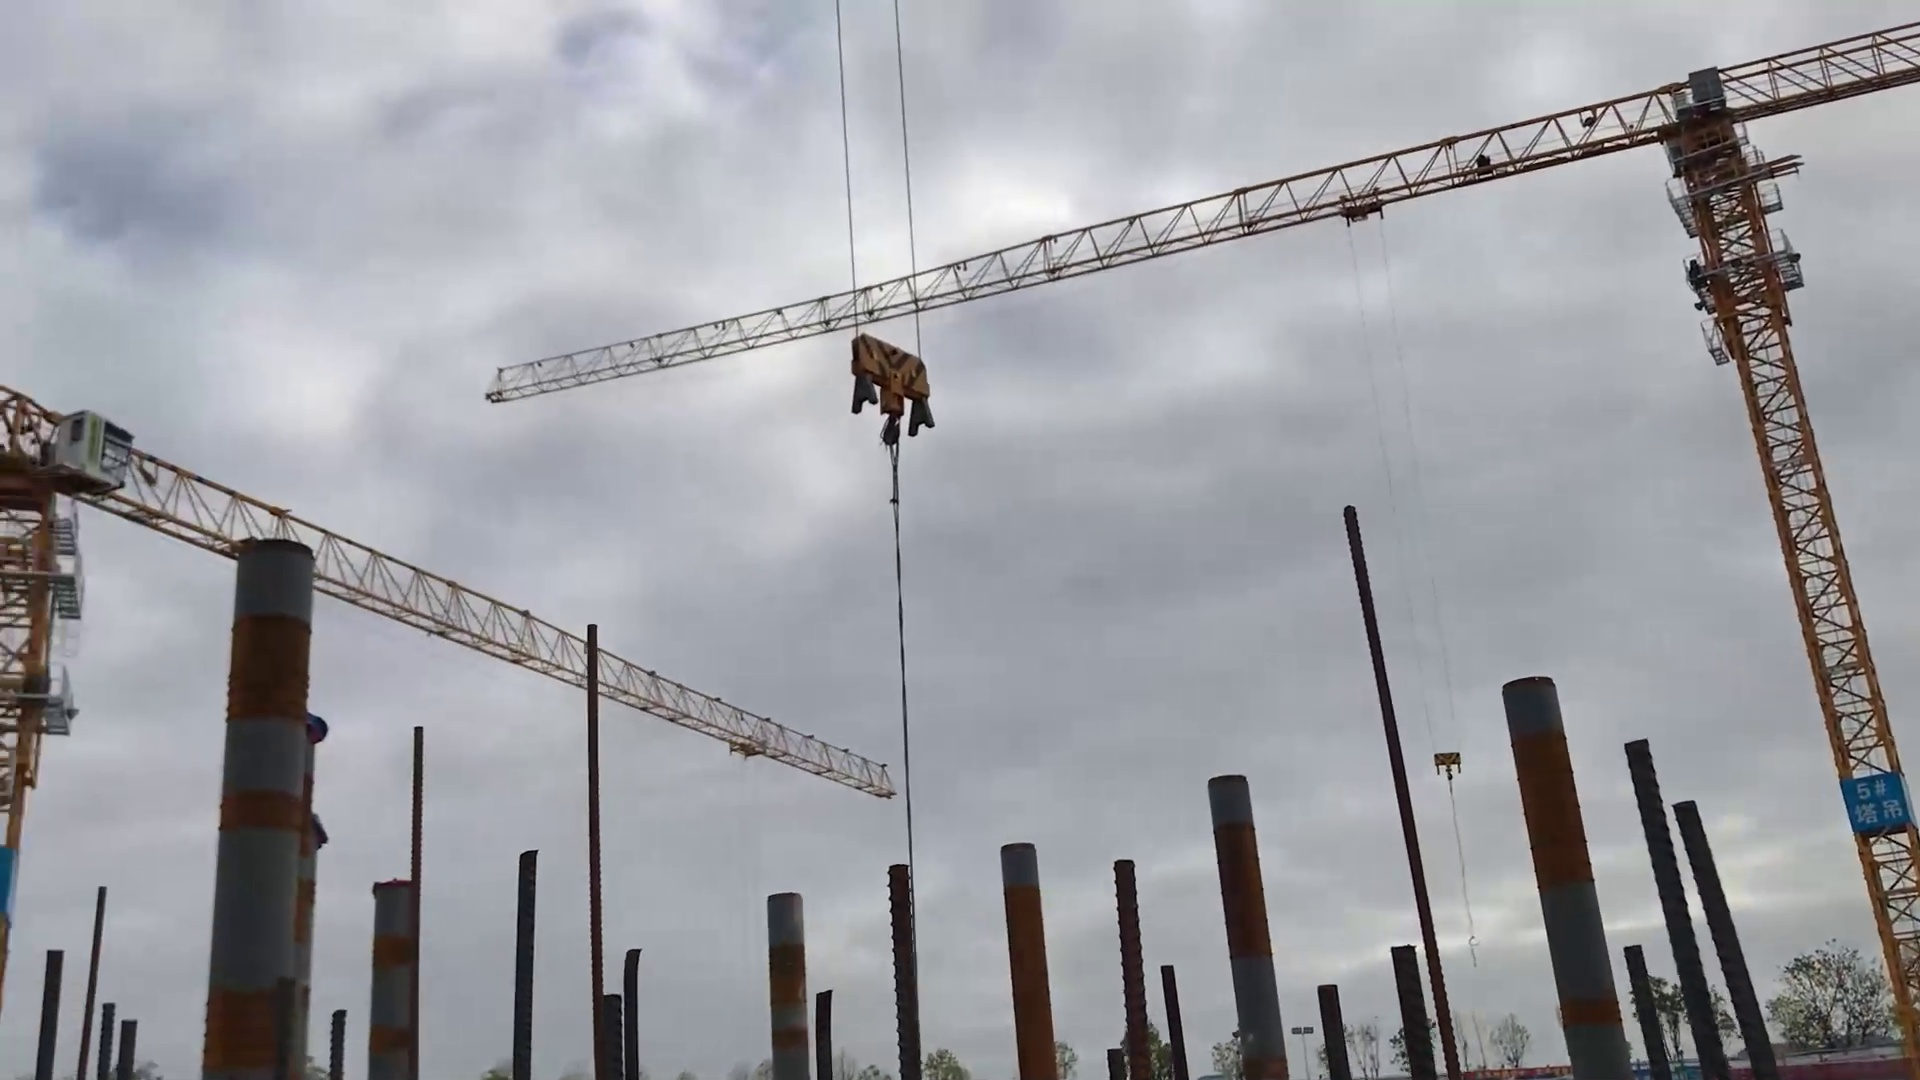hook: (844, 324, 940, 464)
